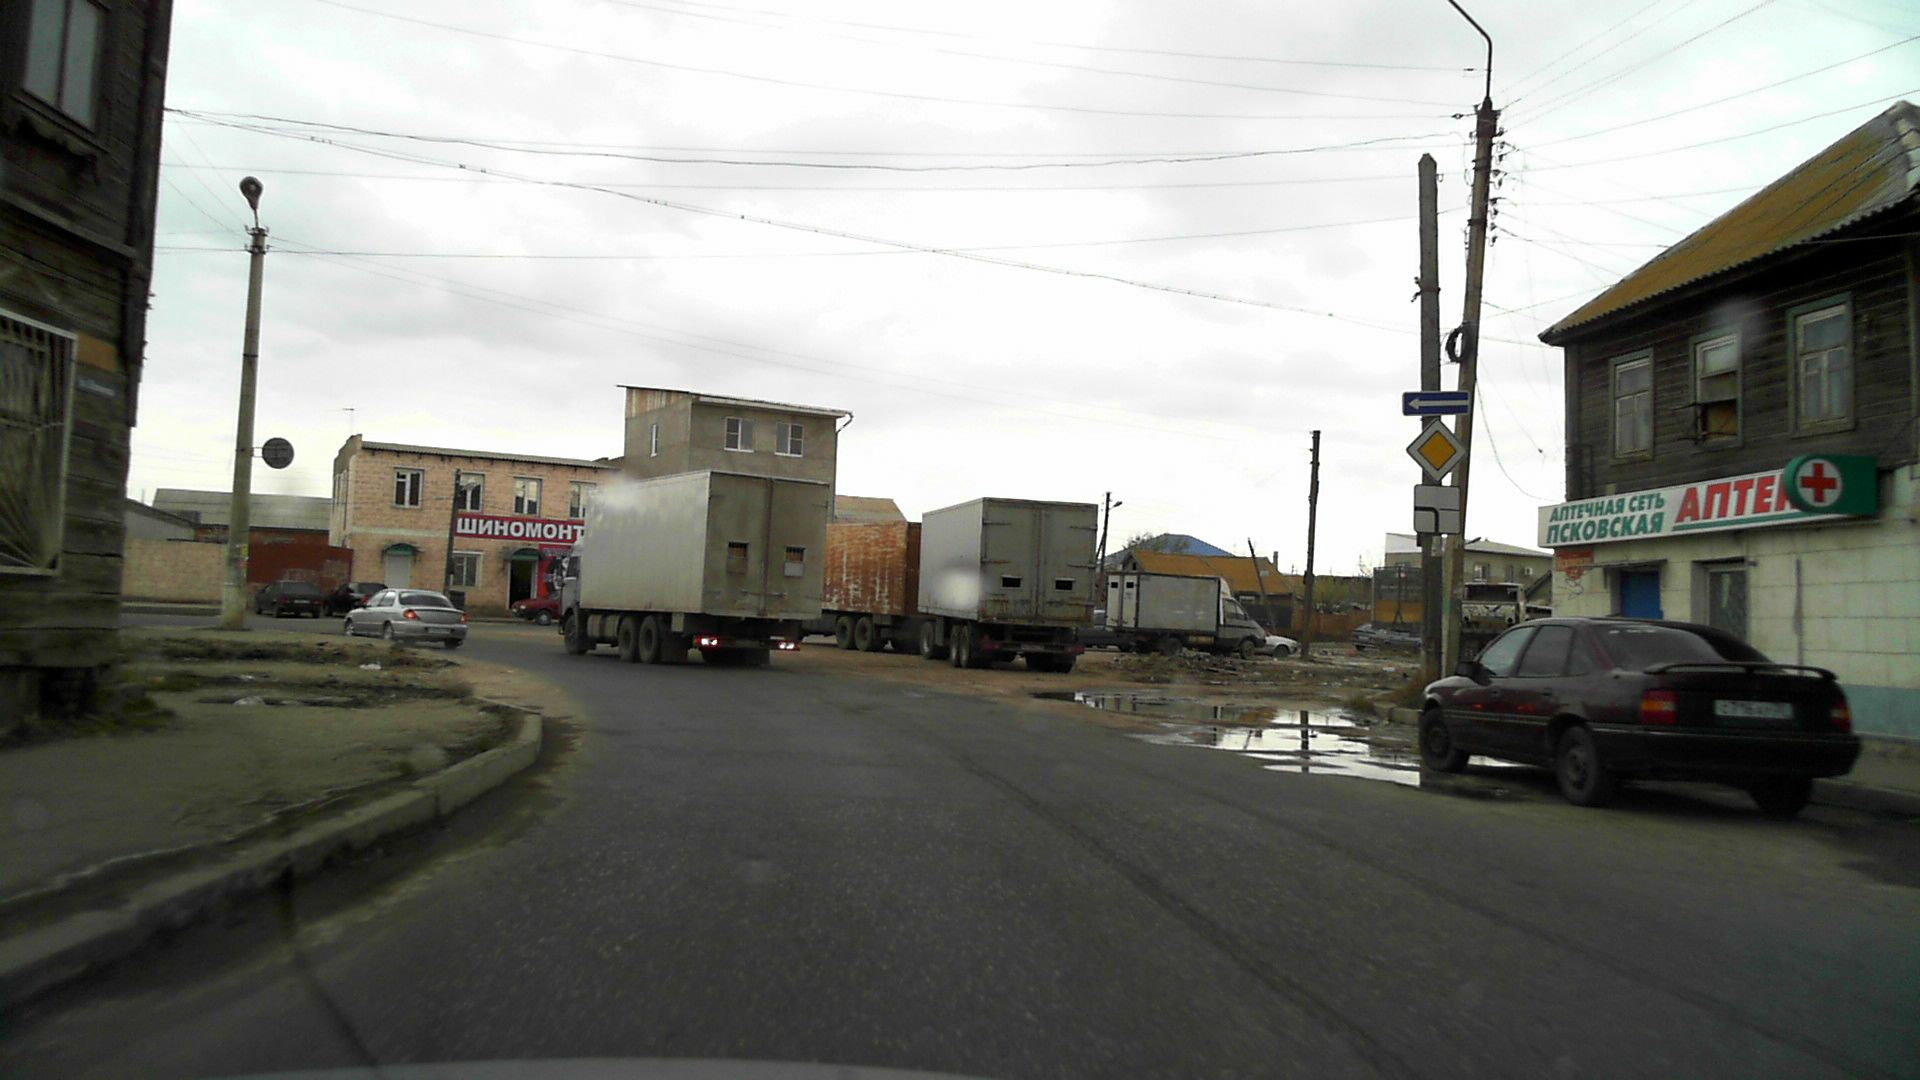One-Way Traffic: (1402, 392, 1470, 415)
